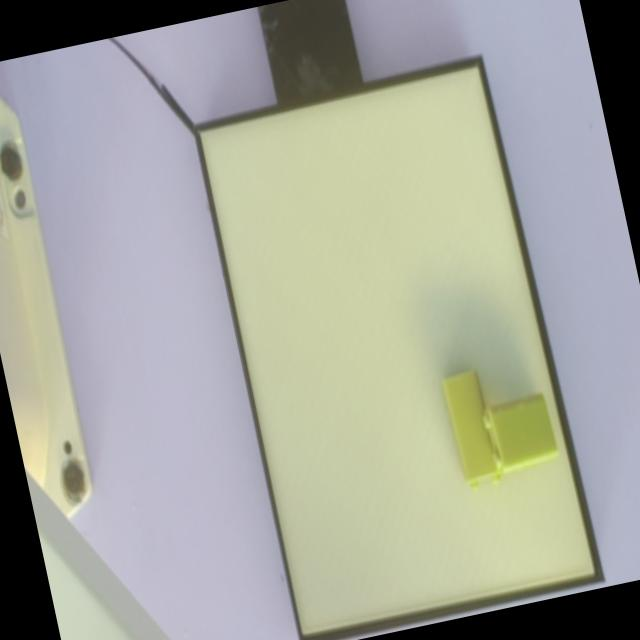bateria: (483, 391, 559, 471)
mesa: (192, 55, 606, 640)
